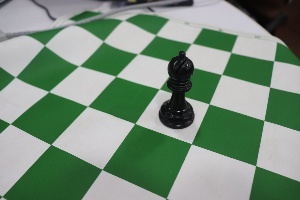black_bishop: (158, 46, 199, 134)
